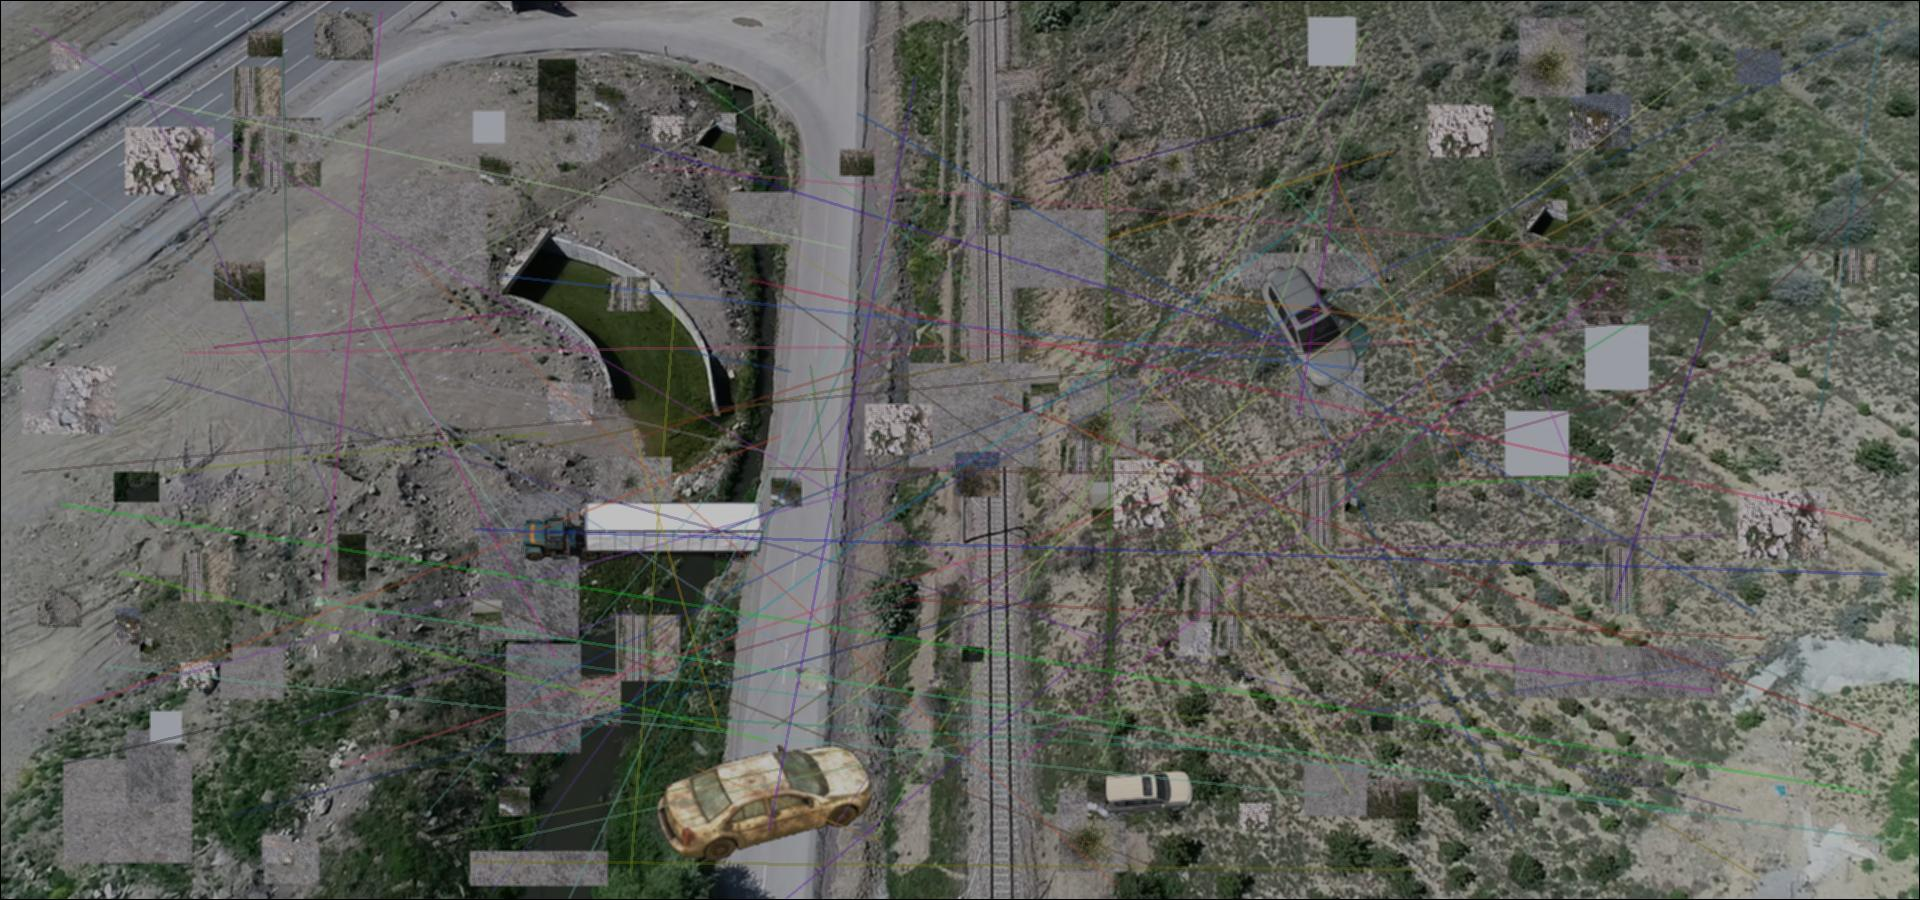arac: (651, 742, 872, 864), (522, 498, 764, 564), (1254, 258, 1365, 387), (1280, 287, 1373, 359), (1102, 768, 1195, 816)
